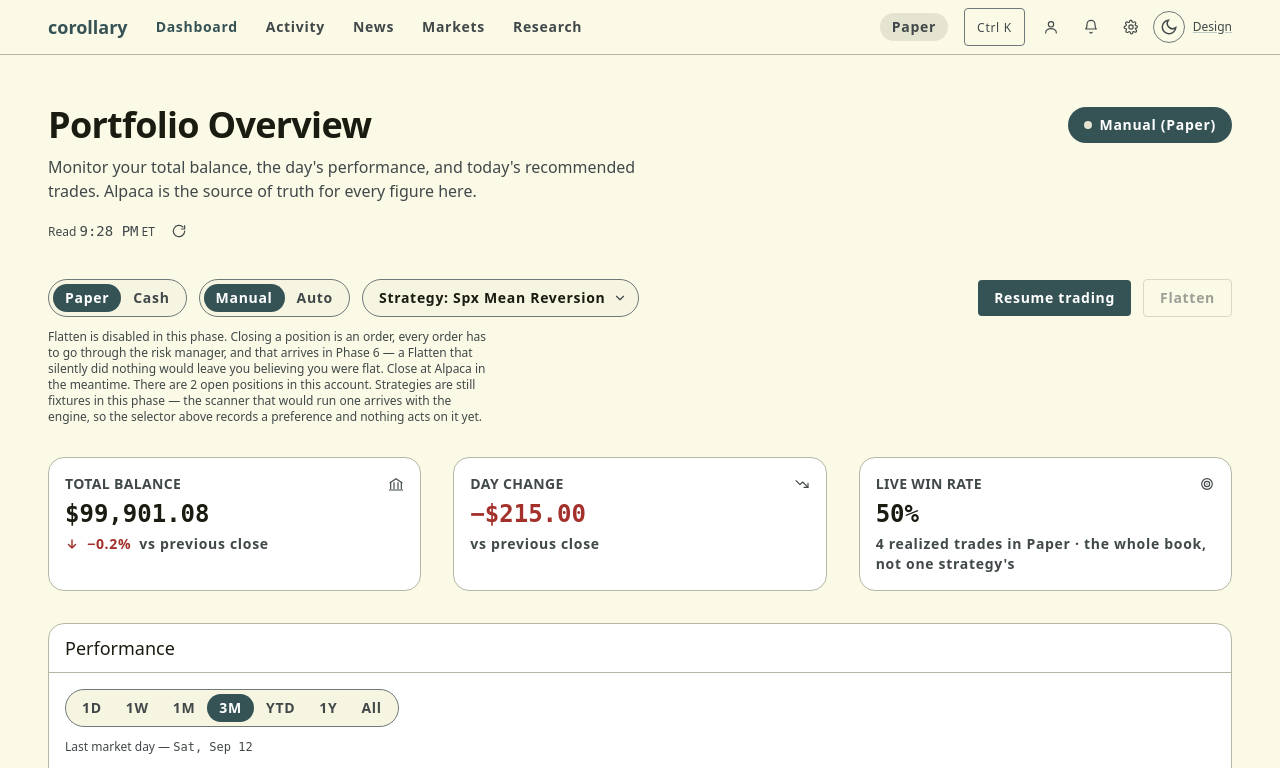
Test: Halt and Resume are real engine state › posts the resume to the engine rather than flipping a local flag
The width and height of the screenshot is (1280, 768).
Click the button "Resume trading" at (1055, 298), box [978,280,1131,316]
(page scrolled)
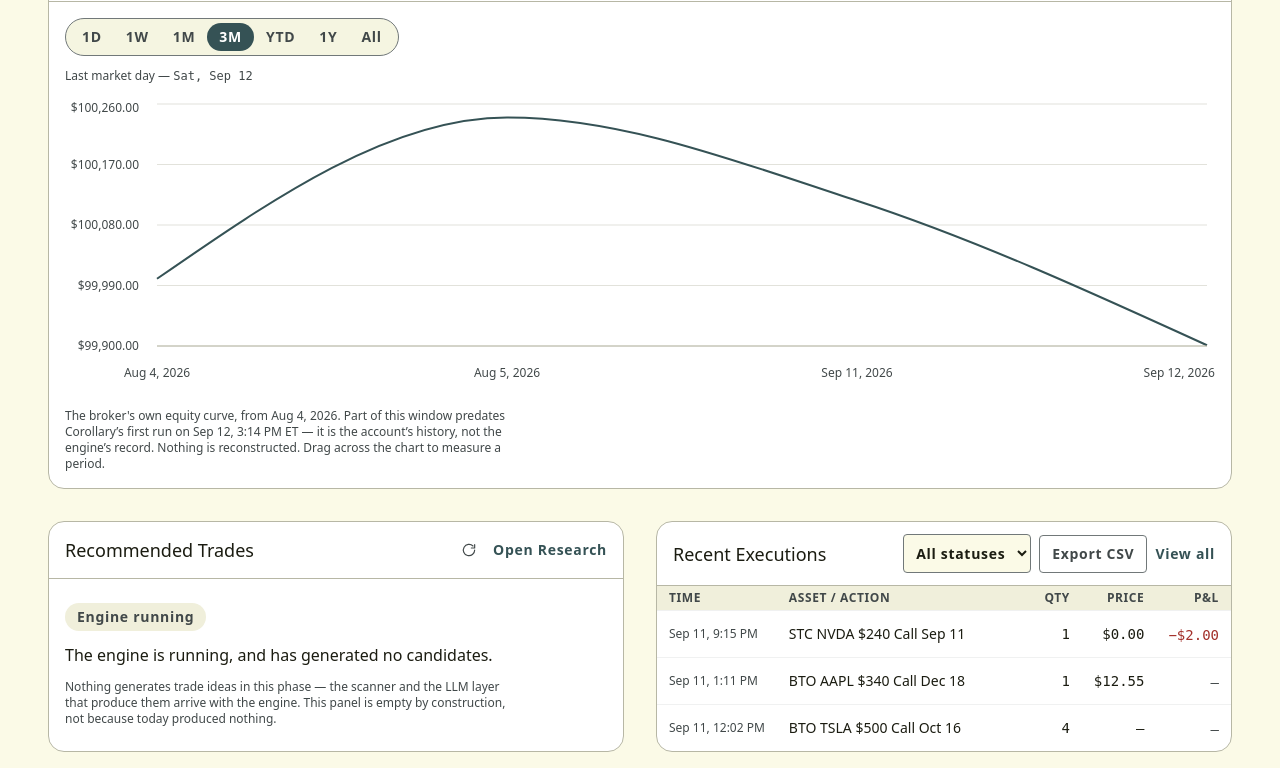
Expected: the text "Engine running" is shown, [65,603,206,631]
